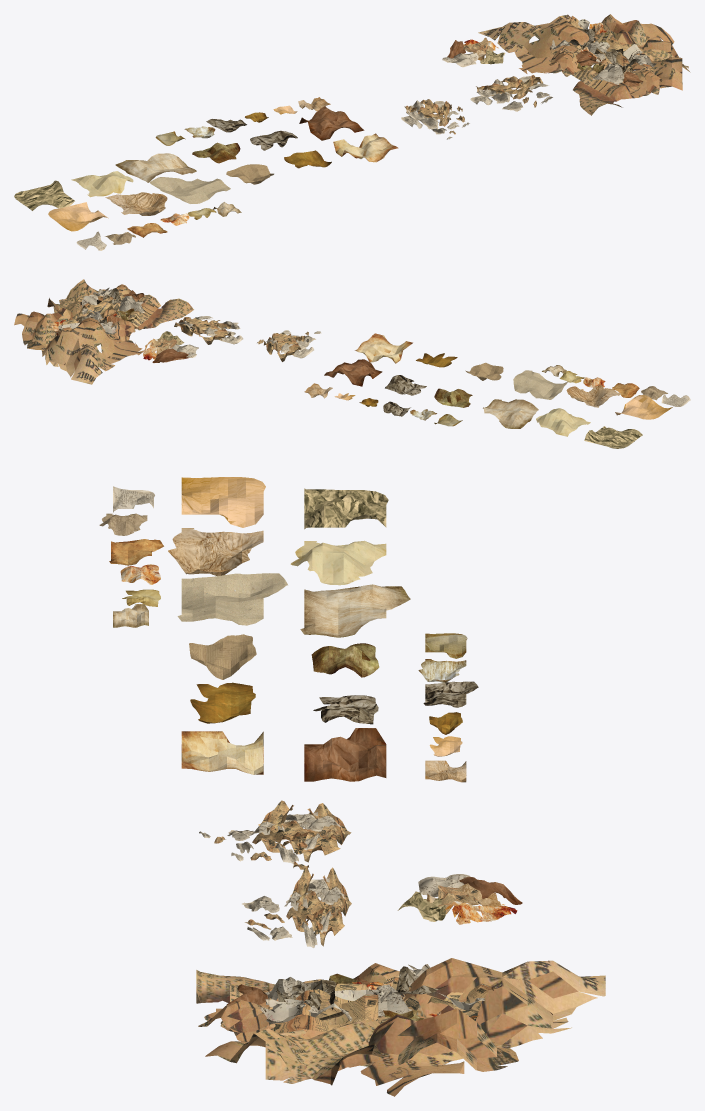
The model's file is trashpile.obj.
3 views of the same model, one above another, from view 1: azimuth 30°, elevation 25°; view 2: azimuth 150°, elevation 25°; view 3: azimuth 270°, elevation 25° (orthographic). The views are drawn at different scales.
Parts seen in each view (by area): view 1: Mesh87 Group95 Group71 Model, Mesh65 Group72 Group71 Model, Mesh16 Group16 Model, Mesh23 Group23 Model, Mesh4 Group4 Model, Mesh12 Group12 Model, Mesh14 Group14 Model, Mesh89 Group96 Group71 Model, Mesh1 Group1 Model, Mesh15 Group15 Model, Mesh5 Group5 Model, Mesh90 Group97 Group71 Model (+10 smaller); view 2: Mesh87 Group95 Group71 Model, Mesh90 Group97 Group71 Model, Mesh23 Group23 Model, Mesh16 Group16 Model, Mesh12 Group12 Model, Mesh1 Group1 Model, Mesh5 Group5 Model, Mesh89 Group96 Group71 Model, Mesh15 Group15 Model, Mesh4 Group4 Model, Mesh65 Group72 Group71 Model, Mesh14 Group14 Model (+10 smaller); view 3: Mesh87 Group95 Group71 Model, Mesh90 Group97 Group71 Model, Mesh65 Group72 Group71 Model, Mesh16 Group16 Model, Mesh23 Group23 Model, Mesh86 Group94 Group71 Model, Mesh4 Group4 Model, Mesh15 Group15 Model, Mesh14 Group14 Model, Mesh12 Group12 Model, Mesh5 Group5 Model, Mesh1 Group1 Model (+11 smaller).
Part boxes in pixels (x1,y1,x2,y2): Mesh87 Group95 Group71 Model: (478, 14, 599, 73); Mesh65 Group72 Group71 Model: (595, 39, 682, 90); Mesh16 Group16 Model: (149, 177, 230, 203); Mesh23 Group23 Model: (115, 153, 196, 182); Mesh4 Group4 Model: (299, 106, 364, 140); Mesh12 Group12 Model: (333, 133, 398, 162); Mesh14 Group14 Model: (105, 192, 167, 215); Mesh89 Group96 Group71 Model: (573, 81, 642, 115); Mesh1 Group1 Model: (14, 180, 74, 210); Mesh15 Group15 Model: (48, 202, 108, 231); Mesh5 Group5 Model: (71, 171, 133, 197); Mesh90 Group97 Group71 Model: (594, 14, 645, 45); Mesh87 Group95 Group71 Model: (41, 317, 144, 384); Mesh90 Group97 Group71 Model: (22, 307, 73, 349); Mesh23 Group23 Model: (483, 399, 538, 428); Mesh16 Group16 Model: (513, 370, 568, 399); Mesh12 Group12 Model: (355, 333, 412, 363); Mesh1 Group1 Model: (584, 426, 642, 448); Mesh5 Group5 Model: (536, 408, 590, 436); Mesh89 Group96 Group71 Model: (133, 298, 193, 329); Mesh15 Group15 Model: (615, 395, 672, 419); Mesh4 Group4 Model: (324, 359, 382, 386); Mesh65 Group72 Group71 Model: (47, 279, 108, 316); Mesh14 Group14 Model: (566, 385, 621, 407); Mesh87 Group95 Group71 Model: (403, 958, 605, 1048); Mesh90 Group97 Group71 Model: (360, 1008, 518, 1071); Mesh65 Group72 Group71 Model: (205, 1011, 409, 1085); Mesh16 Group16 Model: (177, 573, 287, 625); Mesh23 Group23 Model: (300, 584, 410, 637); Mesh86 Group94 Group71 Model: (265, 1042, 464, 1096); Mesh4 Group4 Model: (304, 728, 386, 781); Mesh15 Group15 Model: (181, 477, 265, 527); Mesh14 Group14 Model: (168, 528, 263, 575); Mesh12 Group12 Model: (181, 731, 263, 774); Mesh5 Group5 Model: (290, 540, 386, 585); Mesh1 Group1 Model: (304, 488, 388, 529).
Bounding box in the file's own units: 4970 × 224 × 1814.
Materials: 21 (21 with a texture image).
